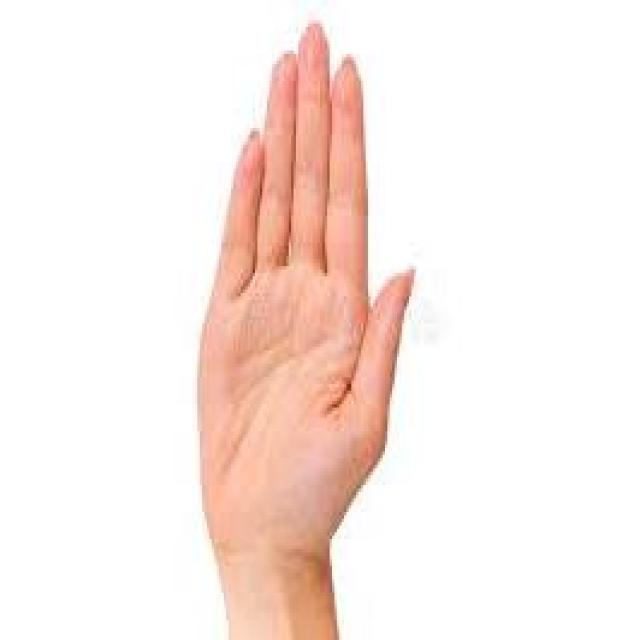no-gloves: (158, 13, 450, 583)
